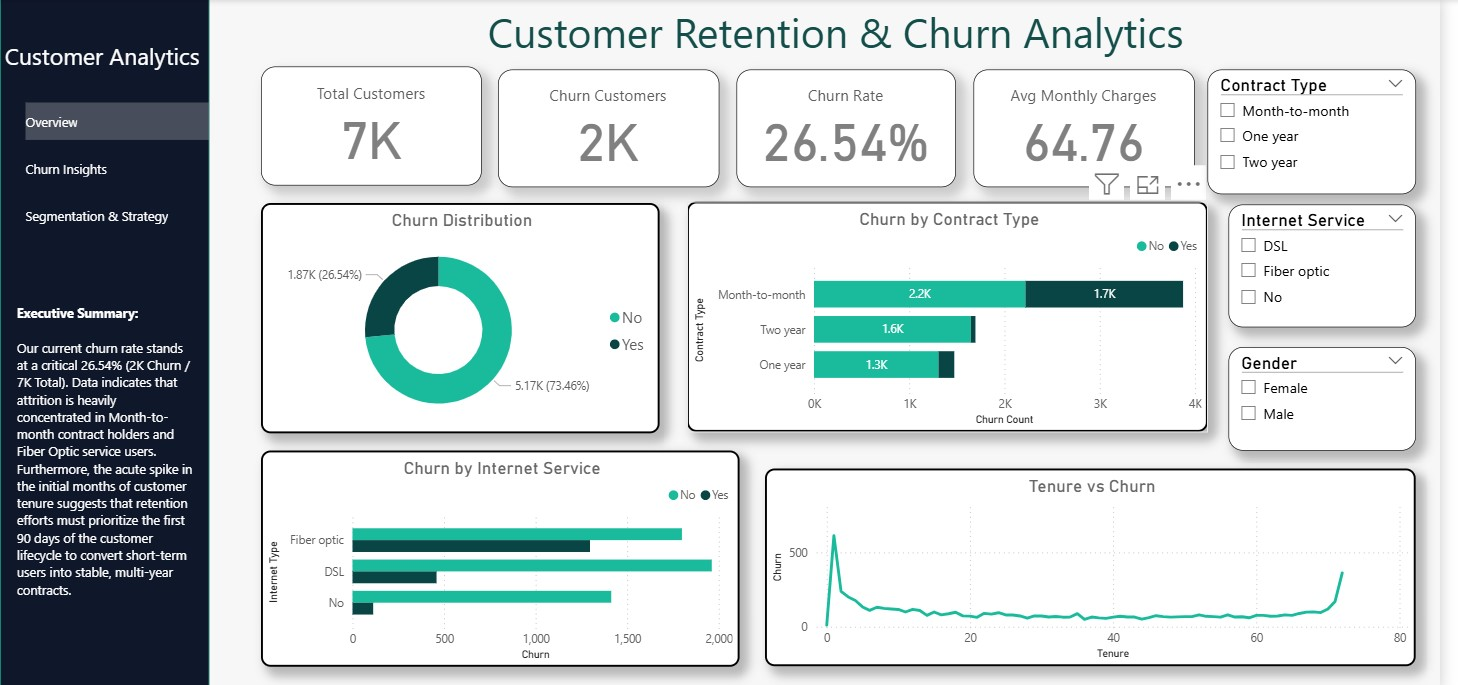

The page's visual inventory and layout, read from the dashboard file:
{"tool":"powerbi","page":{"name":"Overview","canvas":[1500,720],"ordinal":0},"visuals":[{"type":"shape","box":[0,0,218.3,720.4],"z":0},{"type":"cardVisual","fields":{"Data":["cleaned_churn_data.Total Charges"]},"box":[271.5,71,230,124.2],"z":1000},{"type":"cardVisual","fields":{"Data":["cleaned_churn_data.Churn Customers"]},"box":[519.5,72.8,230.7,122.4],"z":2000},{"type":"cardVisual","fields":{"Data":["cleaned_churn_data.Churn Rate"]},"box":[768.1,72.8,228.9,122.4],"z":3000},{"type":"cardVisual","fields":{"Data":["cleaned_churn_data.Avg Monthly Charges"]},"box":[1015,72.8,230.7,122.4],"z":4000},{"type":"donutChart","title":"Churn Distribution","fields":{"Category":["cleaned_churn_data.Churn"],"Y":["CountNonNull(cleaned_churn_data.customerID)"]},"box":[271.5,212.9,415,240],"z":5000},{"type":"barChart","title":"Churn by Contract Type","fields":{"Series":["cleaned_churn_data.Churn"],"Y":["CountNonNull(cleaned_churn_data.Contract)"],"Category":["cleaned_churn_data.Contract"]},"box":[715.1,211.2,543,240],"z":6000},{"type":"clusteredBarChart","title":"Churn by Internet Service","fields":{"Category":["cleaned_churn_data.InternetService"],"Y":["CountNonNull(cleaned_churn_data.InternetService)"],"Series":["cleaned_churn_data.Churn"]},"box":[271.5,470.2,498.6,225.4],"z":7000},{"type":"lineChart","title":"Tenure vs Churn","fields":{"Category":["cleaned_churn_data.tenure"],"Y":["CountNonNull(cleaned_churn_data.Churn)"]},"box":[796.7,489.8,677.8,205.8],"z":8000},{"type":"slicer","fields":{"Values":["cleaned_churn_data.Contract"]},"box":[1258.2,73.5,217.3,129.7],"z":9000},{"type":"slicer","fields":{"Values":["cleaned_churn_data.InternetService"]},"box":[1280.1,214.1,195.4,128.2],"z":10000},{"type":"slicer","fields":{"Values":["cleaned_churn_data.gender"]},"box":[1280.1,362.6,195.4,107.8],"z":11000},{"type":"pageNavigator","box":[26.6,108.2,191.6,138.4],"z":13000},{"type":"textbox","box":[0,37.3,244.9,55],"z":14000},{"type":"textbox","box":[495.1,0,750.6,72.8],"z":15000},{"type":"textbox","box":[12.5,312.6,193.8,353.2],"z":15001}]}

Visuals, with their boxes on the page's 1500x720 design canvas (x1, y1, x2, y2). These are canvas units, not pixel positions in the 1458x685 screenshot, which may show the page scaled, cropped or inside an application window:
shape: [x1=0, y1=0, x2=218, y2=720]
cardVisual - cleaned_churn_data.Total Charges: [x1=272, y1=71, x2=502, y2=195]
cardVisual - cleaned_churn_data.Churn Customers: [x1=520, y1=73, x2=750, y2=195]
cardVisual - cleaned_churn_data.Churn Rate: [x1=768, y1=73, x2=997, y2=195]
cardVisual - cleaned_churn_data.Avg Monthly Charges: [x1=1015, y1=73, x2=1246, y2=195]
"Churn Distribution" donutChart: [x1=272, y1=213, x2=686, y2=453]
"Churn by Contract Type" barChart: [x1=715, y1=211, x2=1258, y2=451]
"Churn by Internet Service" clusteredBarChart: [x1=272, y1=470, x2=770, y2=696]
"Tenure vs Churn" lineChart: [x1=797, y1=490, x2=1474, y2=696]
slicer - cleaned_churn_data.Contract: [x1=1258, y1=74, x2=1476, y2=203]
slicer - cleaned_churn_data.InternetService: [x1=1280, y1=214, x2=1476, y2=342]
slicer - cleaned_churn_data.gender: [x1=1280, y1=363, x2=1476, y2=470]
pageNavigator: [x1=27, y1=108, x2=218, y2=247]
textbox: [x1=0, y1=37, x2=245, y2=92]
textbox: [x1=495, y1=0, x2=1246, y2=73]
textbox: [x1=12, y1=313, x2=206, y2=666]
